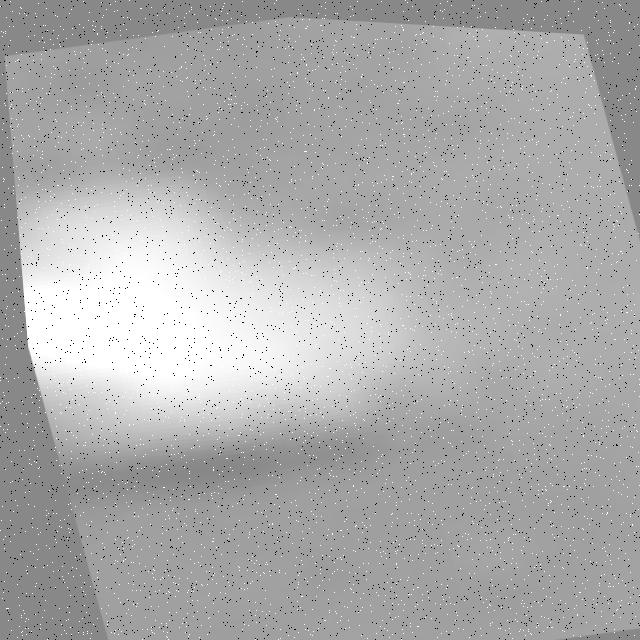person: (8, 109, 478, 489)
